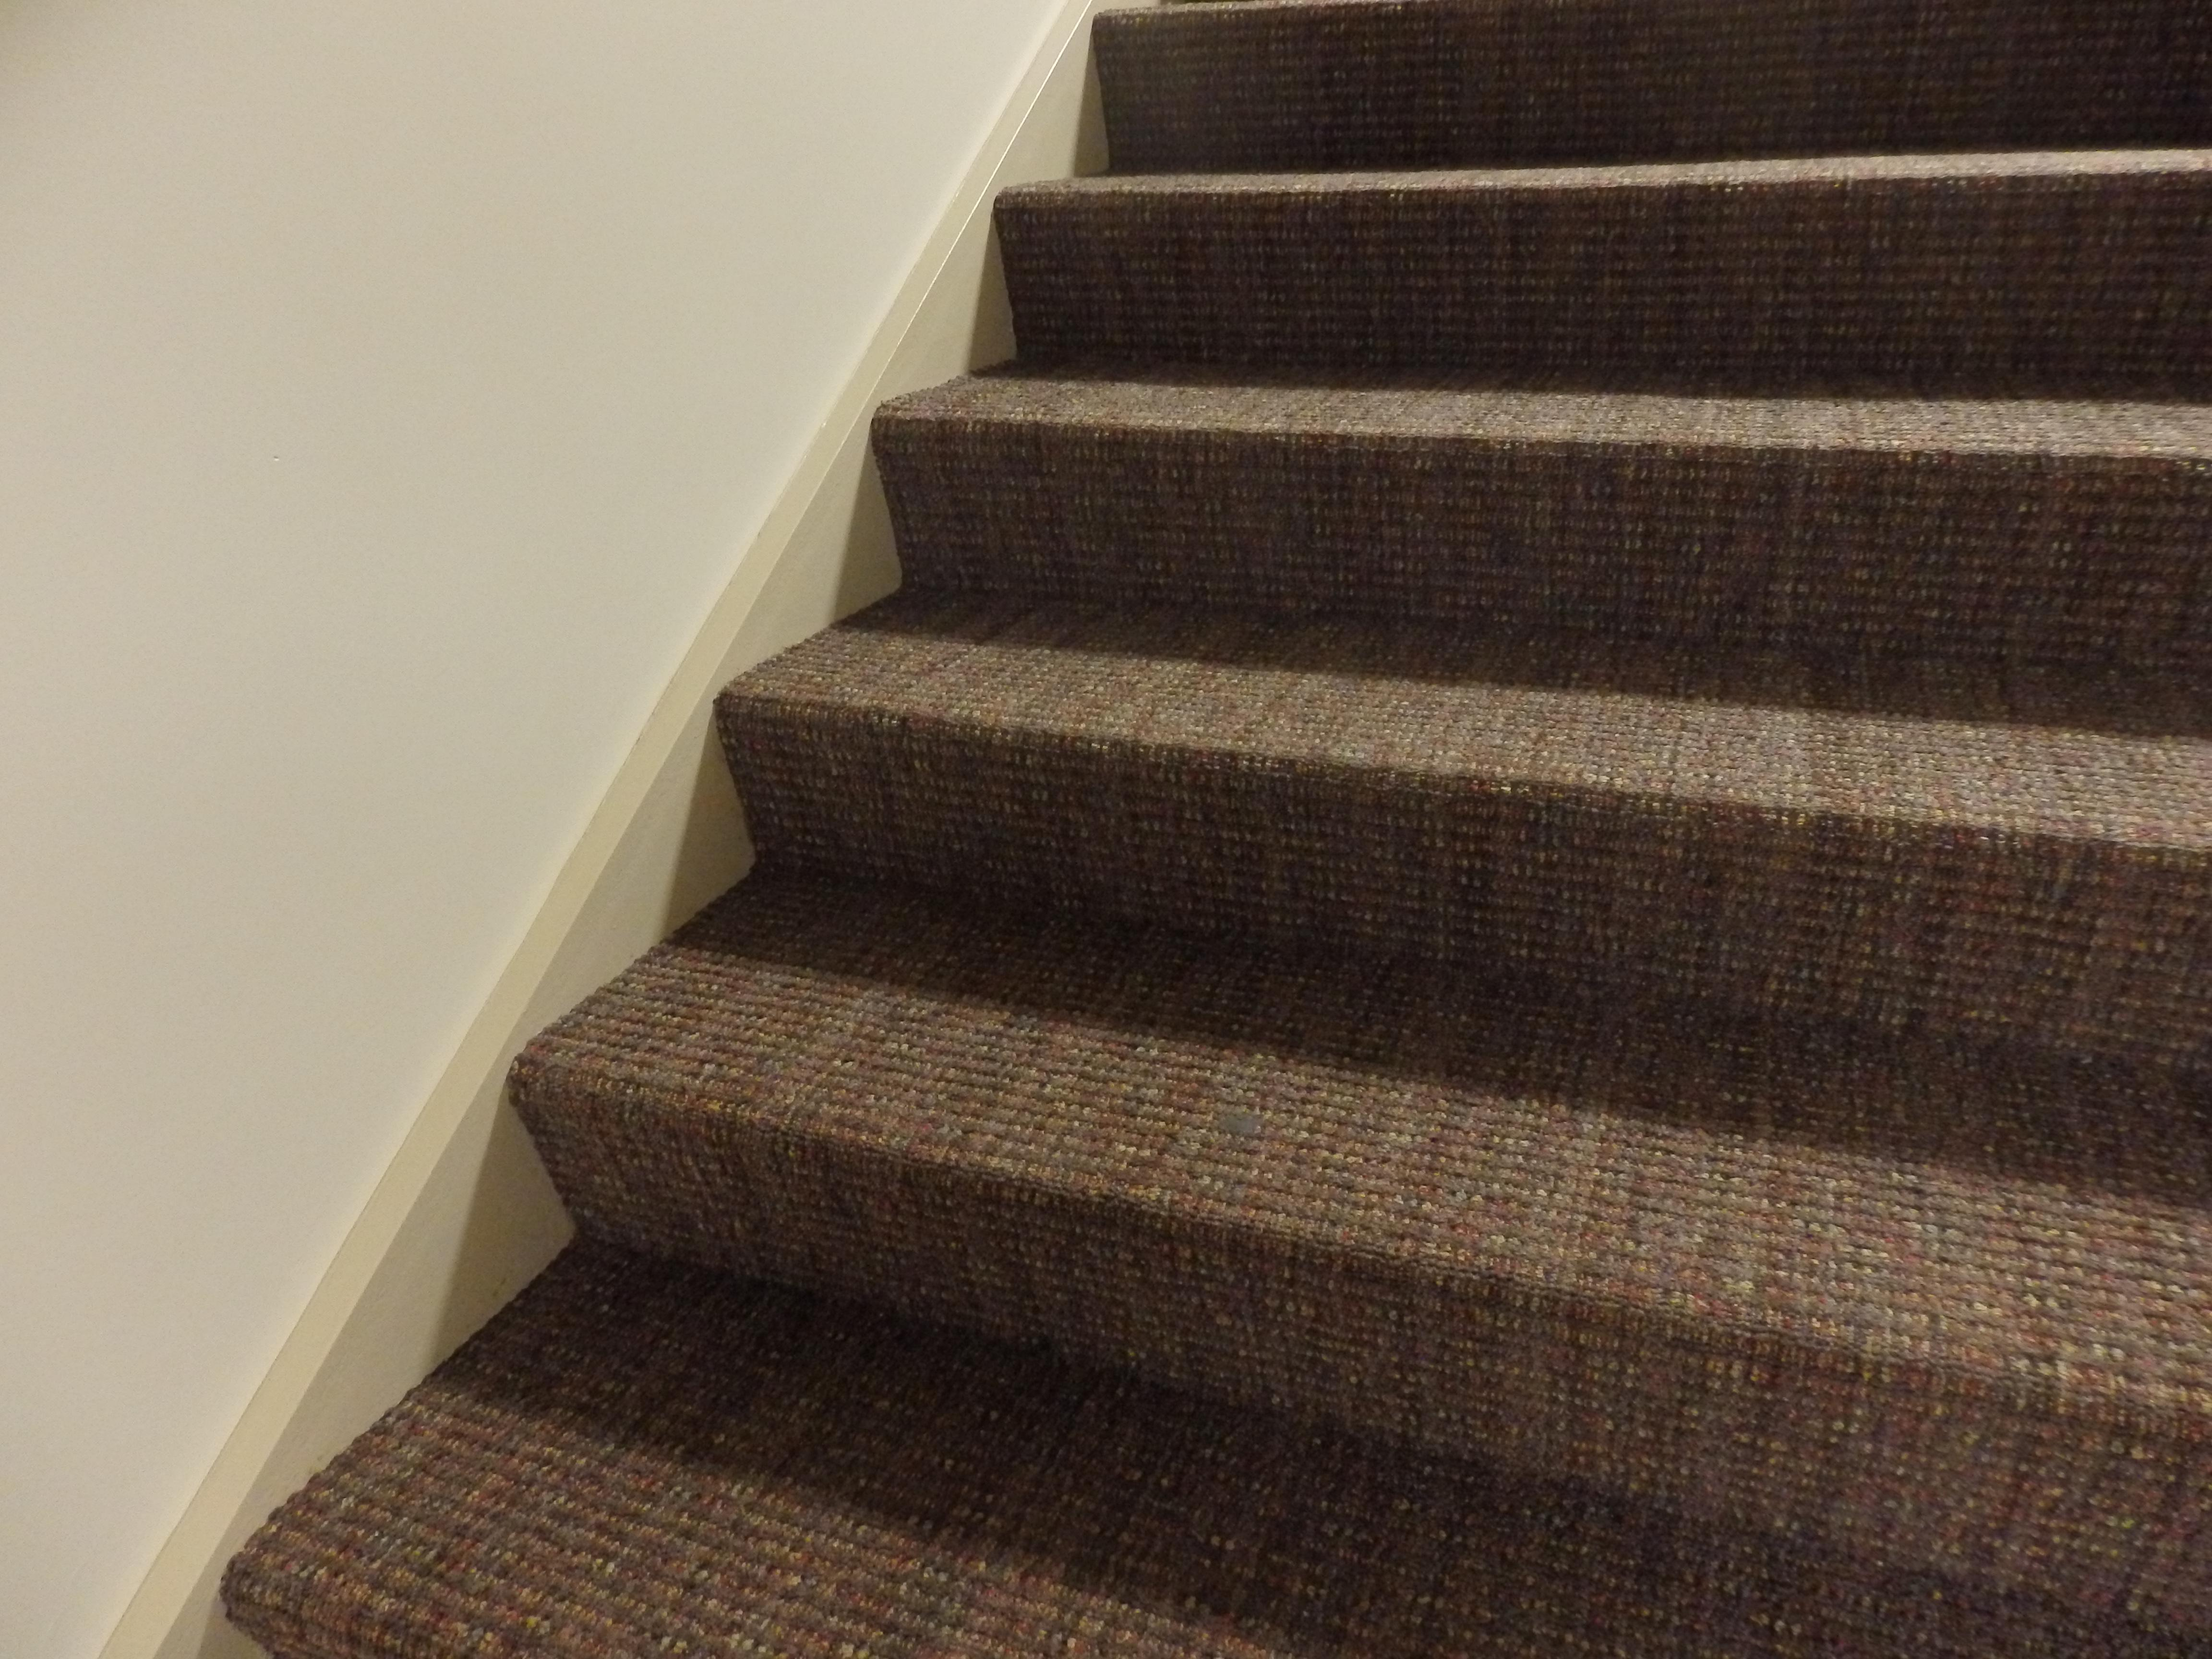stairs_up: (308, 3, 2209, 1656)
